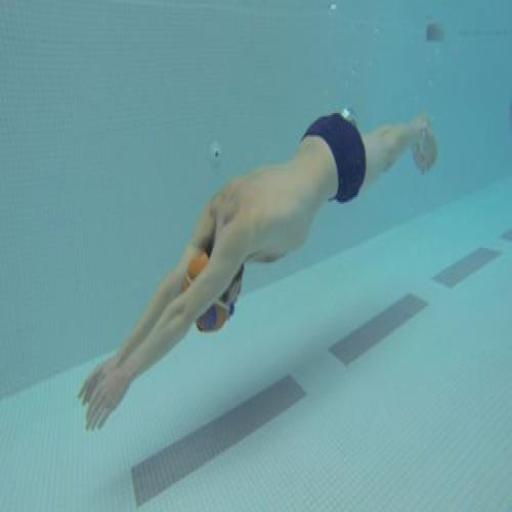swimming: (76, 100, 440, 434)
